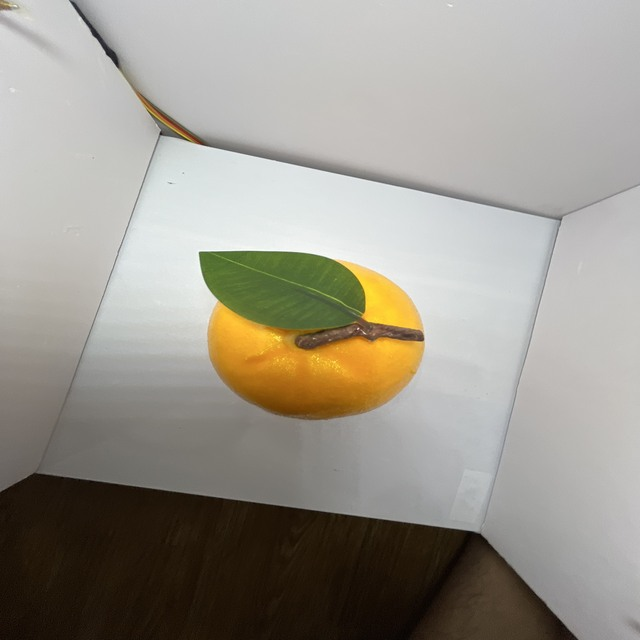Cam vang: (210, 257, 429, 424)
